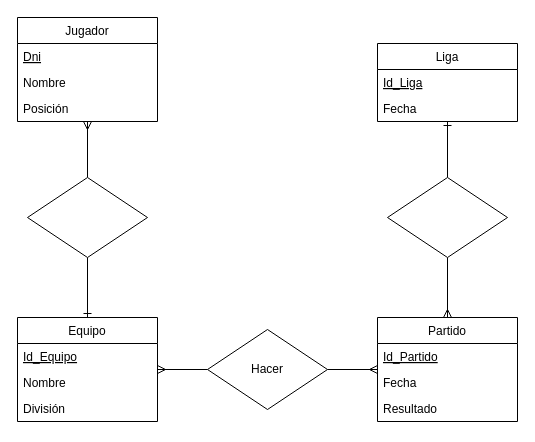
Some shapes in this 535 by 442 pixel diagram are drawn without their labels. The shapes that lost their labels are listed below. From the top down, each one's box as (x1, y1, x2, y2) in pixels, then its label:
(26, 176, 148, 258): Jugar
(386, 176, 508, 258): Formar
